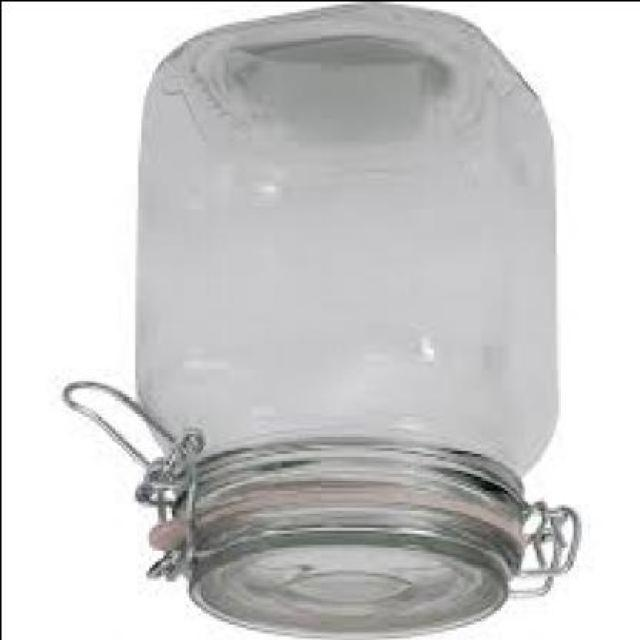GLASS: (128, 3, 554, 639)
METAL: (59, 382, 199, 523), (507, 506, 575, 603)
